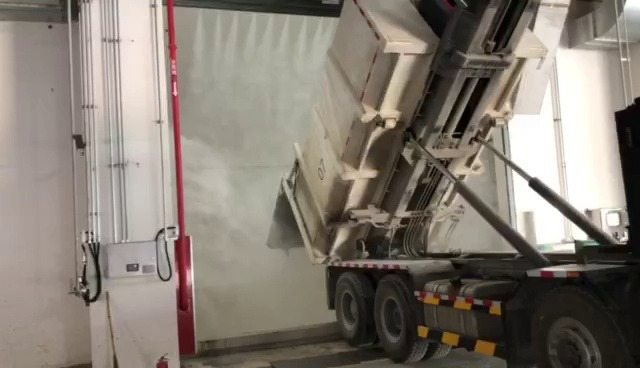dust: (179, 73, 328, 320)
truck: (300, 0, 640, 368)
